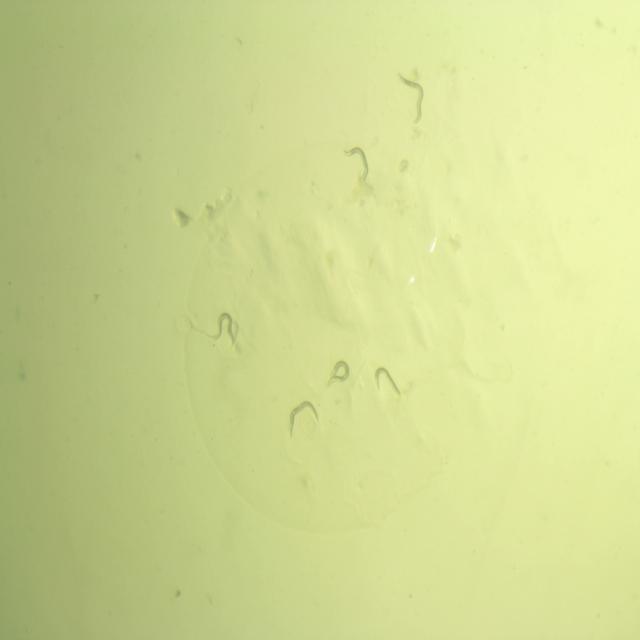worm: (395, 69, 426, 124), (286, 399, 321, 440), (342, 146, 372, 185), (206, 310, 236, 349), (373, 362, 403, 400), (325, 357, 350, 391)
